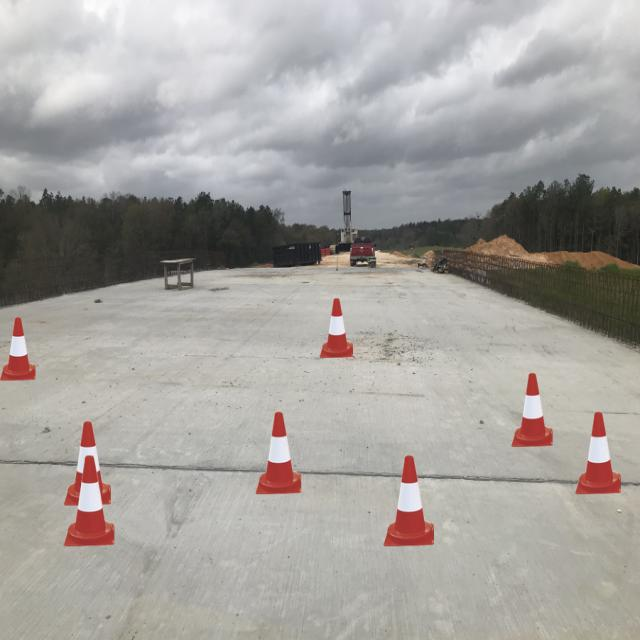orange_cone: (384, 456, 434, 546), (64, 456, 114, 546), (64, 421, 111, 506), (575, 412, 621, 494), (256, 412, 301, 494), (512, 373, 552, 447), (0, 317, 36, 381), (320, 298, 353, 358)
